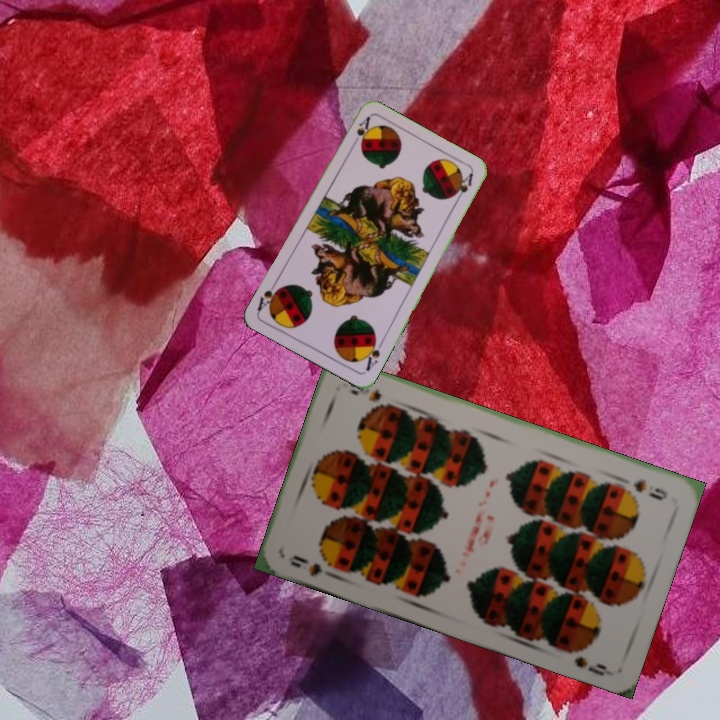S9: (286, 551, 340, 581), (629, 475, 671, 503)
SA: (359, 333, 386, 374), (353, 113, 373, 148)
